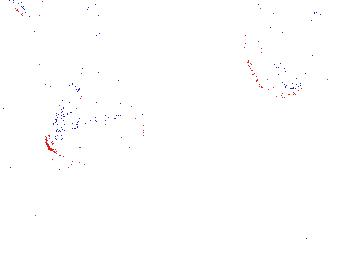moon jellyfish: (243, 1, 339, 99), (45, 101, 147, 167), (32, 3, 83, 94)
